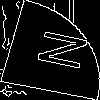N: (25, 25, 89, 72)
